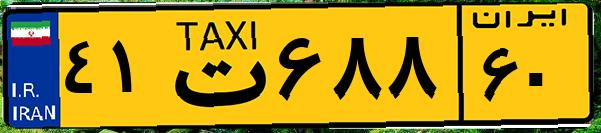0: (525, 38, 570, 115)
1: (110, 28, 158, 98)
4: (57, 26, 110, 100)
6: (270, 28, 330, 110), (475, 38, 525, 113)
8: (385, 28, 445, 110), (330, 28, 385, 110)
ت: (158, 12, 270, 120)
